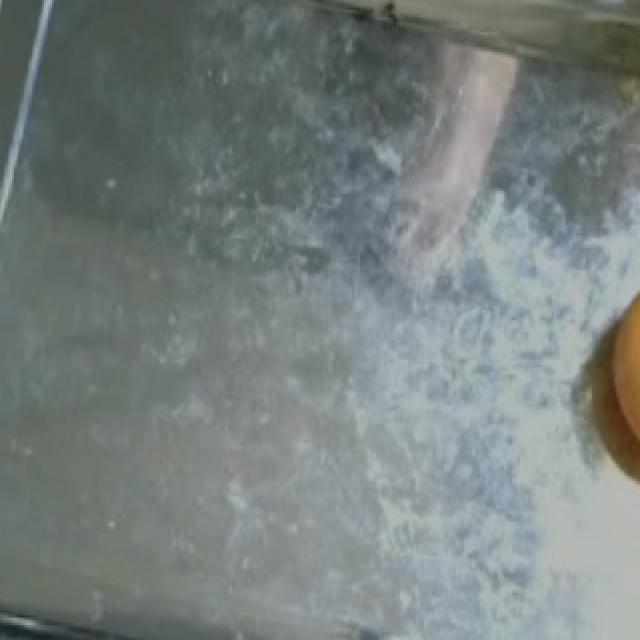Fruit: (584, 258, 640, 494)
